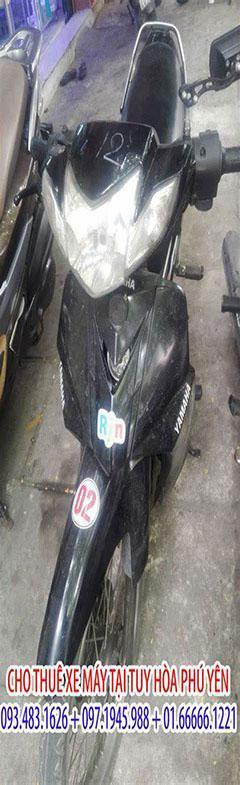motorcycle: (11, 65, 237, 676)
